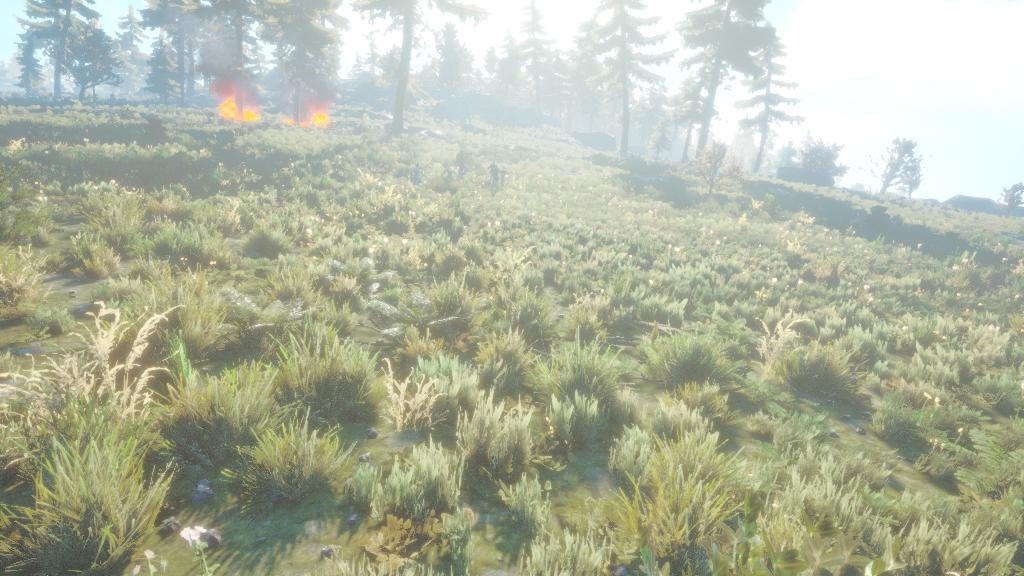Fire: (210, 80, 261, 121), (283, 98, 335, 130)
human: (485, 149, 522, 196), (437, 158, 471, 192), (405, 153, 429, 193)
smoke: (185, 21, 248, 79), (279, 49, 340, 98)
